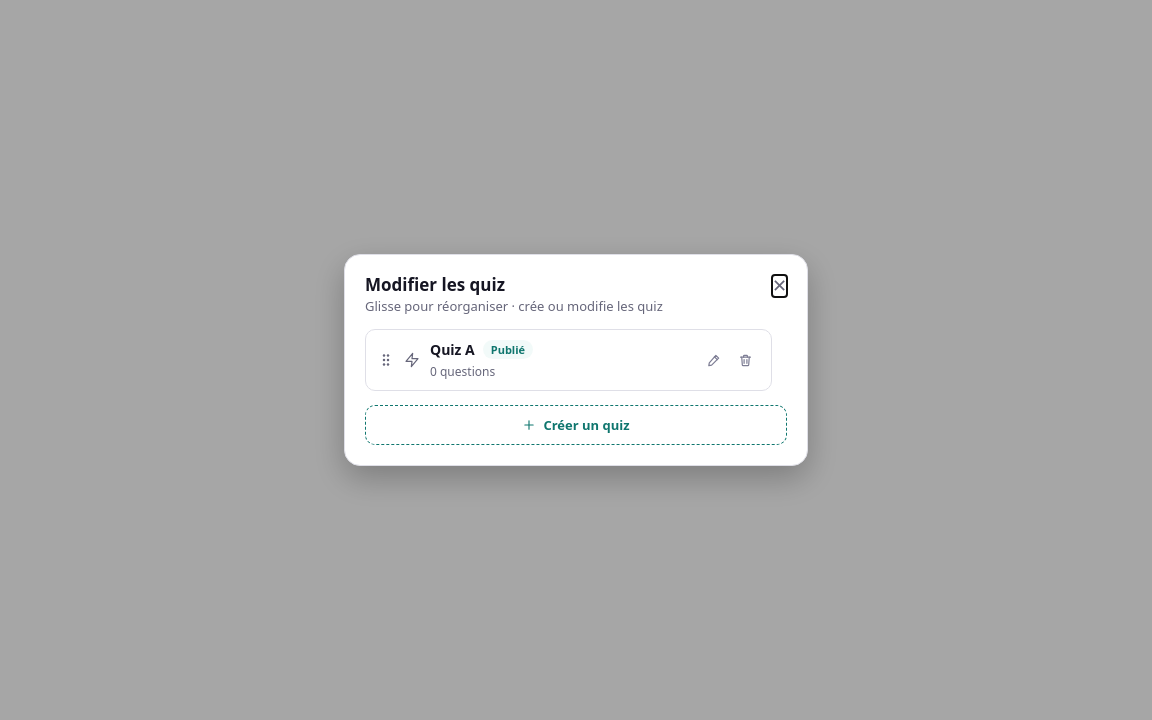
Test: QuizEditor — navigation liste → formulaire › le crayon ouvre le formulaire du quiz
Step 1. Click the button named "Modifier Quiz A" → (713, 360), box [699,346,727,374]
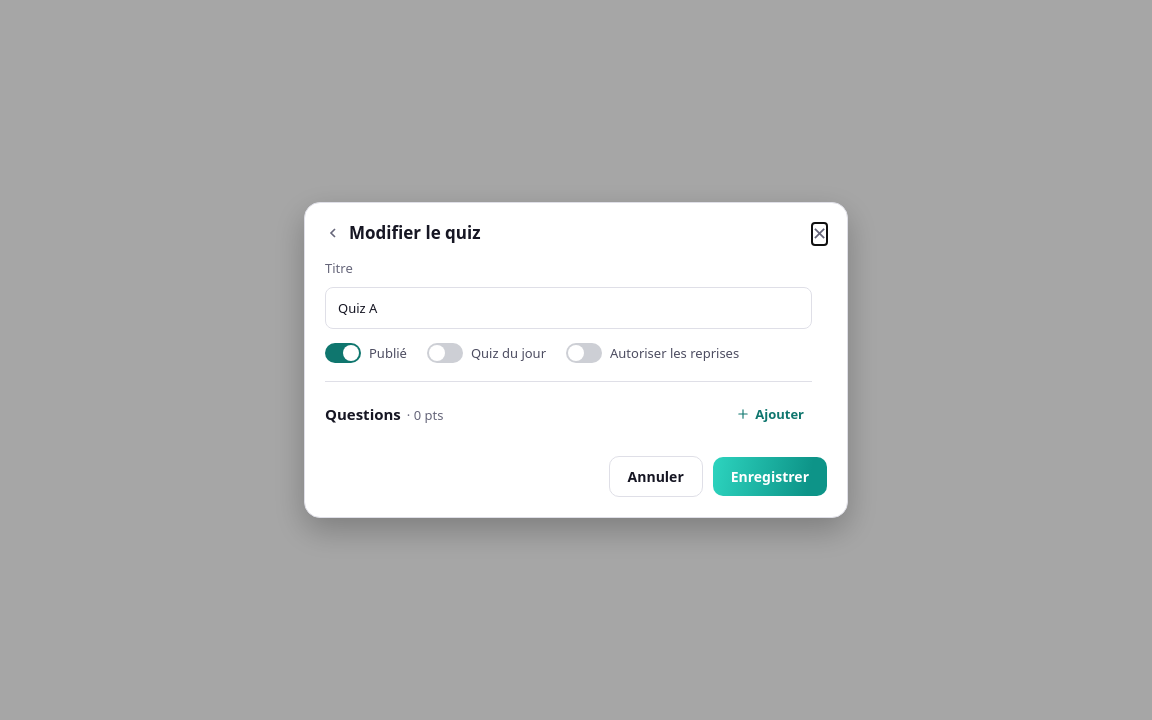
Expected: the heading "Modifier le quiz" is shown, [349,223,480,243]
Expected: the field with placeholder "Titre du quiz" holds "Quiz A", [325,287,812,329]
